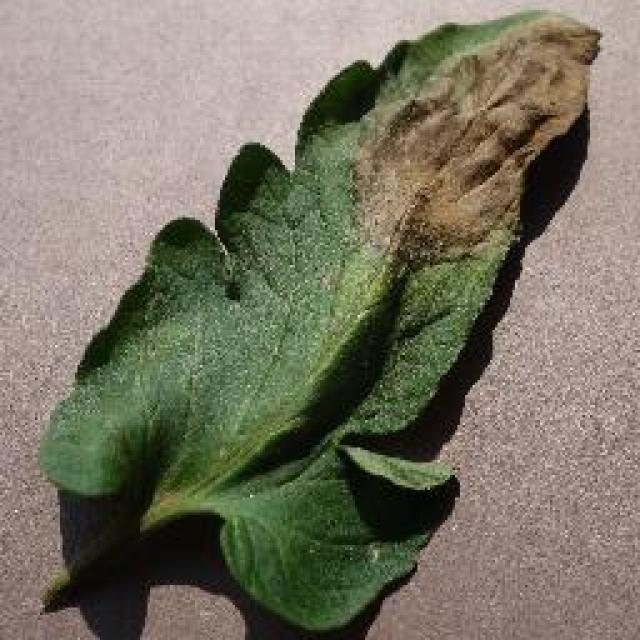Tomato late blight leaf: (36, 11, 602, 629)
